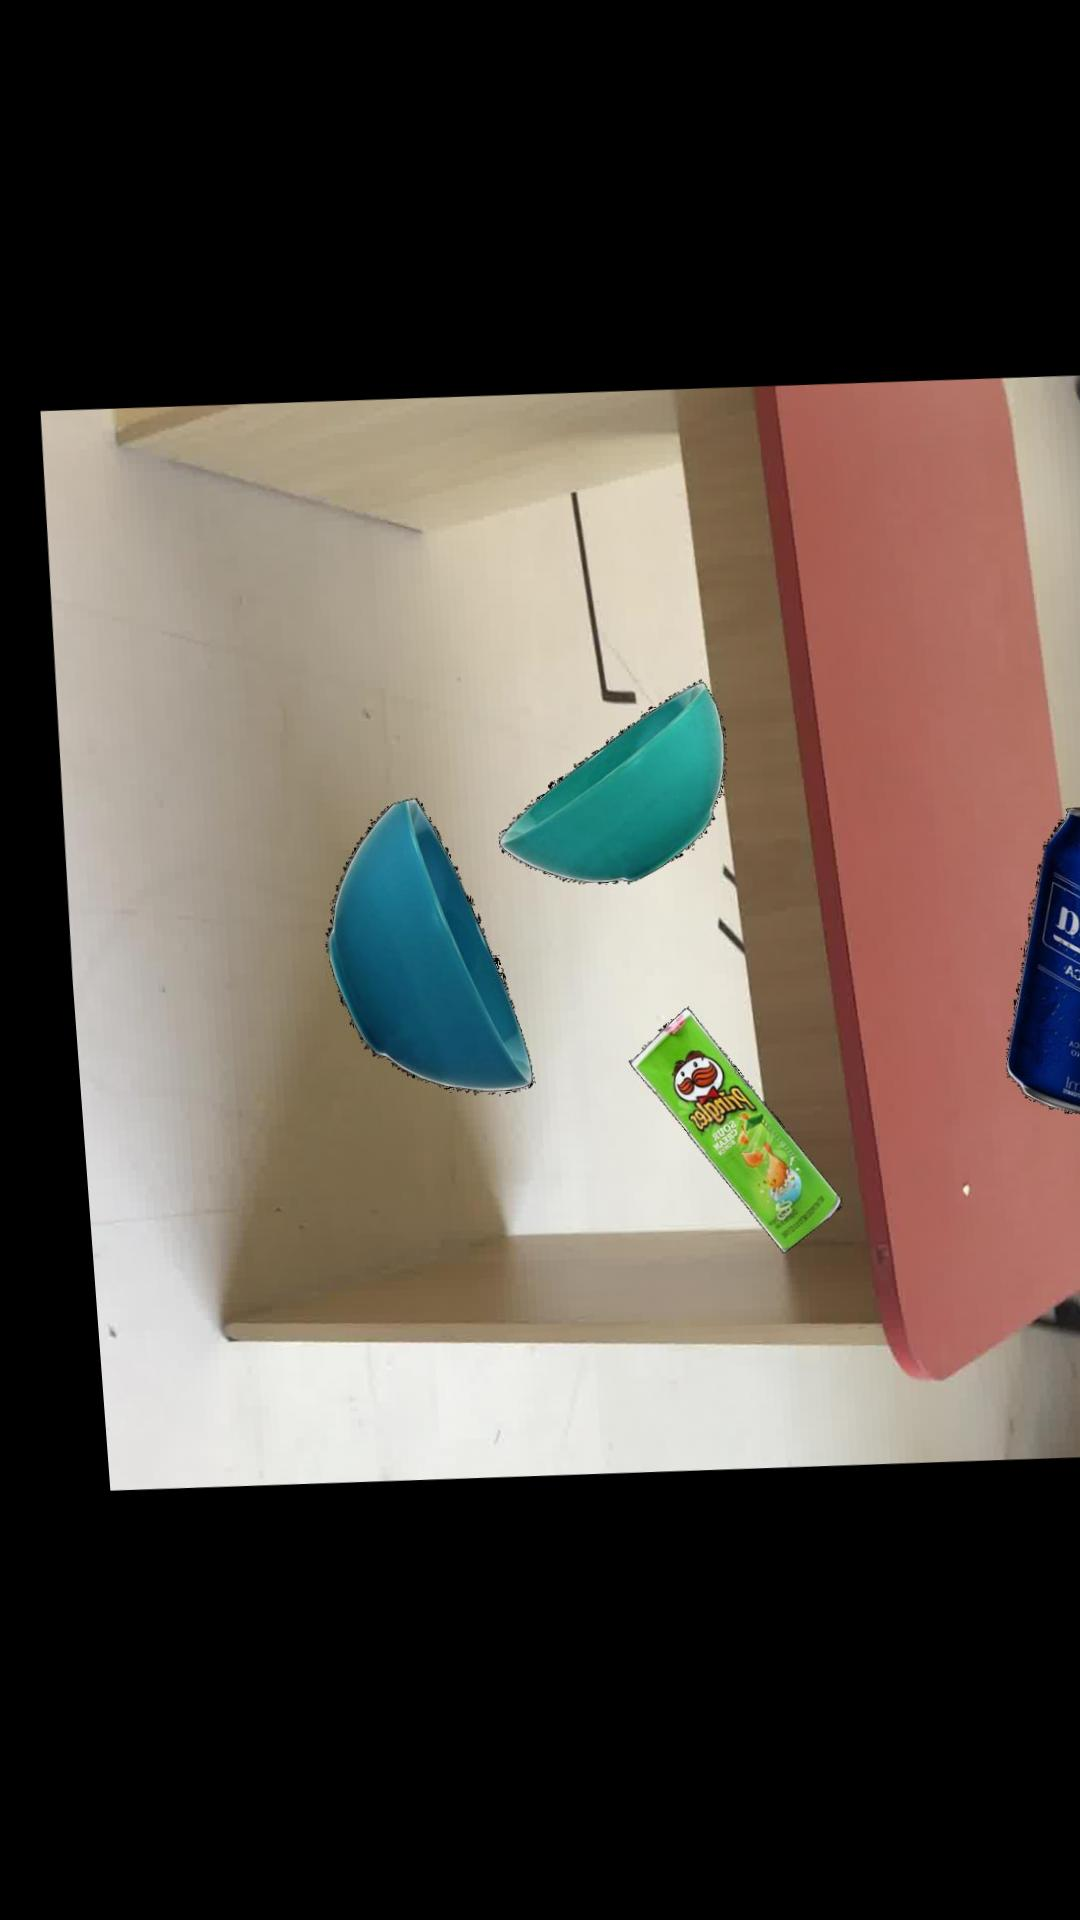bowl: (311, 799, 517, 1095), (487, 687, 715, 887)
pringles: (613, 1011, 823, 1258)
tonic: (989, 816, 1080, 1126)
